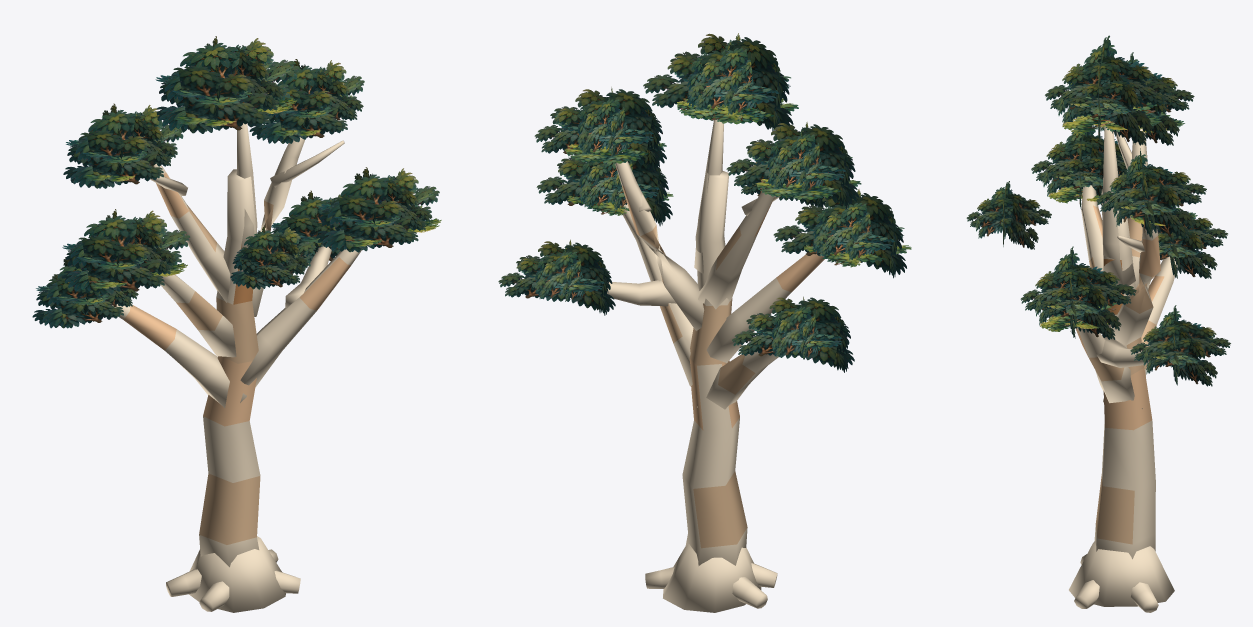
The model's file is TREE_EUCALYPTUS_001_v009_LOD_MAP.glb.
3 renders of one model, left to right at view 1: azimuth 30°, elevation 25°; view 2: azimuth 150°, elevation 25°; view 3: azimuth 270°, elevation 25°, orthographic. The views are drawn at different scales.
Parts seen in each view (by area): view 1: TREE_EUCALYPTUS_001_MAP_AUTHORED_FOLIAGE_ISLANDS, TREE_EUCALYPTUS_001_MAP_MAIN_TRUNK, TREE_EUCALYPTUS_001_MAP_SCULPTED_ROOT_COLLAR, TREE_EUCALYPTUS_001_MAP_MID_RIGHT_SWEEP, TREE_EUCALYPTUS_001_MAP_LOWER_LEFT_SWEEP, TREE_EUCALYPTUS_001_MAP_UPPER_LEFT_FORK, TREE_EUCALYPTUS_001_MAP_MID_LEFT_ARCH, TREE_EUCALYPTUS_001_MAP_UPPER_RIGHT_ARCH, TREE_EUCALYPTUS_001_MAP_CENTRAL_CROWN_FORK, TREE_EUCALYPTUS_001_MAP_LOWER_RIGHT_REACH, TREE_EUCALYPTUS_001_MAP_RIGHT_TOP_SUPPORT, TREE_EUCALYPTUS_001_MAP_ROOT_LONG_LEFT (+1 smaller); view 2: TREE_EUCALYPTUS_001_MAP_AUTHORED_FOLIAGE_ISLANDS, TREE_EUCALYPTUS_001_MAP_MAIN_TRUNK, TREE_EUCALYPTUS_001_MAP_SCULPTED_ROOT_COLLAR, TREE_EUCALYPTUS_001_MAP_UPPER_RIGHT_ARCH, TREE_EUCALYPTUS_001_MAP_MID_LEFT_ARCH, TREE_EUCALYPTUS_001_MAP_UPPER_LEFT_FORK, TREE_EUCALYPTUS_001_MAP_MID_RIGHT_SWEEP, TREE_EUCALYPTUS_001_MAP_LOWER_LEFT_SWEEP, TREE_EUCALYPTUS_001_MAP_LOWER_RIGHT_REACH, TREE_EUCALYPTUS_001_MAP_CENTRAL_CROWN_FORK, TREE_EUCALYPTUS_001_MAP_ROOT_LONG_LEFT; view 3: TREE_EUCALYPTUS_001_MAP_AUTHORED_FOLIAGE_ISLANDS, TREE_EUCALYPTUS_001_MAP_MAIN_TRUNK, TREE_EUCALYPTUS_001_MAP_SCULPTED_ROOT_COLLAR, TREE_EUCALYPTUS_001_MAP_UPPER_RIGHT_ARCH, TREE_EUCALYPTUS_001_MAP_CENTRAL_CROWN_FORK, TREE_EUCALYPTUS_001_MAP_MID_RIGHT_SWEEP, TREE_EUCALYPTUS_001_MAP_MID_LEFT_ARCH, TREE_EUCALYPTUS_001_MAP_LOWER_LEFT_SWEEP, TREE_EUCALYPTUS_001_MAP_LOWER_RIGHT_REACH, TREE_EUCALYPTUS_001_MAP_UPPER_LEFT_FORK, TREE_EUCALYPTUS_001_MAP_ROOT_RIGHT_SIDE, TREE_EUCALYPTUS_001_MAP_ROOT_FRONT_RIGHT.
Part boxes in pixels (left/top/right/bottom): TREE_EUCALYPTUS_001_MAP_AUTHORED_FOLIAGE_ISLANDS: left=32, top=36, right=441, bottom=328; TREE_EUCALYPTUS_001_MAP_MAIN_TRUNK: left=199, top=169, right=260, bottom=567; TREE_EUCALYPTUS_001_MAP_SCULPTED_ROOT_COLLAR: left=189, top=536, right=285, bottom=612; TREE_EUCALYPTUS_001_MAP_MID_RIGHT_SWEEP: left=240, top=249, right=361, bottom=387; TREE_EUCALYPTUS_001_MAP_LOWER_LEFT_SWEEP: left=112, top=304, right=246, bottom=407; TREE_EUCALYPTUS_001_MAP_UPPER_LEFT_FORK: left=153, top=163, right=230, bottom=302; TREE_EUCALYPTUS_001_MAP_MID_LEFT_ARCH: left=160, top=275, right=236, bottom=357; TREE_EUCALYPTUS_001_MAP_UPPER_RIGHT_ARCH: left=252, top=137, right=304, bottom=316; TREE_EUCALYPTUS_001_MAP_CENTRAL_CROWN_FORK: left=236, top=123, right=257, bottom=271; TREE_EUCALYPTUS_001_MAP_LOWER_RIGHT_REACH: left=285, top=246, right=331, bottom=308; TREE_EUCALYPTUS_001_MAP_RIGHT_TOP_SUPPORT: left=270, top=140, right=344, bottom=187; TREE_EUCALYPTUS_001_MAP_ROOT_LONG_LEFT: left=166, top=569, right=201, bottom=596; TREE_EUCALYPTUS_001_MAP_AUTHORED_FOLIAGE_ISLANDS: left=498, top=33, right=911, bottom=372; TREE_EUCALYPTUS_001_MAP_MAIN_TRUNK: left=682, top=171, right=747, bottom=565; TREE_EUCALYPTUS_001_MAP_SCULPTED_ROOT_COLLAR: left=663, top=544, right=761, bottom=612; TREE_EUCALYPTUS_001_MAP_UPPER_RIGHT_ARCH: left=611, top=146, right=704, bottom=330; TREE_EUCALYPTUS_001_MAP_MID_LEFT_ARCH: left=706, top=253, right=824, bottom=362; TREE_EUCALYPTUS_001_MAP_UPPER_LEFT_FORK: left=698, top=188, right=774, bottom=309; TREE_EUCALYPTUS_001_MAP_MID_RIGHT_SWEEP: left=615, top=200, right=693, bottom=386; TREE_EUCALYPTUS_001_MAP_LOWER_LEFT_SWEEP: left=697, top=351, right=778, bottom=409; TREE_EUCALYPTUS_001_MAP_LOWER_RIGHT_REACH: left=607, top=280, right=676, bottom=306; TREE_EUCALYPTUS_001_MAP_CENTRAL_CROWN_FORK: left=694, top=119, right=724, bottom=273; TREE_EUCALYPTUS_001_MAP_ROOT_LONG_LEFT: left=732, top=577, right=767, bottom=608; TREE_EUCALYPTUS_001_MAP_AUTHORED_FOLIAGE_ISLANDS: left=966, top=35, right=1230, bottom=386; TREE_EUCALYPTUS_001_MAP_MAIN_TRUNK: left=1094, top=189, right=1155, bottom=559; TREE_EUCALYPTUS_001_MAP_SCULPTED_ROOT_COLLAR: left=1069, top=541, right=1174, bottom=606; TREE_EUCALYPTUS_001_MAP_UPPER_RIGHT_ARCH: left=1111, top=226, right=1160, bottom=345; TREE_EUCALYPTUS_001_MAP_CENTRAL_CROWN_FORK: left=1102, top=126, right=1135, bottom=285; TREE_EUCALYPTUS_001_MAP_MID_RIGHT_SWEEP: left=1076, top=327, right=1134, bottom=403; TREE_EUCALYPTUS_001_MAP_MID_LEFT_ARCH: left=1081, top=185, right=1103, bottom=271; TREE_EUCALYPTUS_001_MAP_LOWER_LEFT_SWEEP: left=1103, top=256, right=1177, bottom=408; TREE_EUCALYPTUS_001_MAP_LOWER_RIGHT_REACH: left=1096, top=335, right=1157, bottom=367; TREE_EUCALYPTUS_001_MAP_UPPER_LEFT_FORK: left=1127, top=128, right=1147, bottom=287; TREE_EUCALYPTUS_001_MAP_ROOT_RIGHT_SIDE: left=1131, top=582, right=1158, bottom=612; TREE_EUCALYPTUS_001_MAP_ROOT_FRONT_RIGHT: left=1074, top=580, right=1099, bottom=608.
Bounding box in the file's own units: 10.07 × 13.98 × 6.57.
5 materials, 1 textured.
